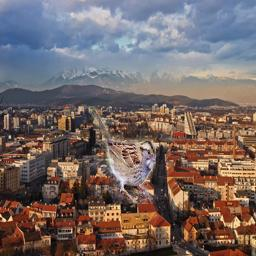Sparrow: (89, 106, 156, 204)
